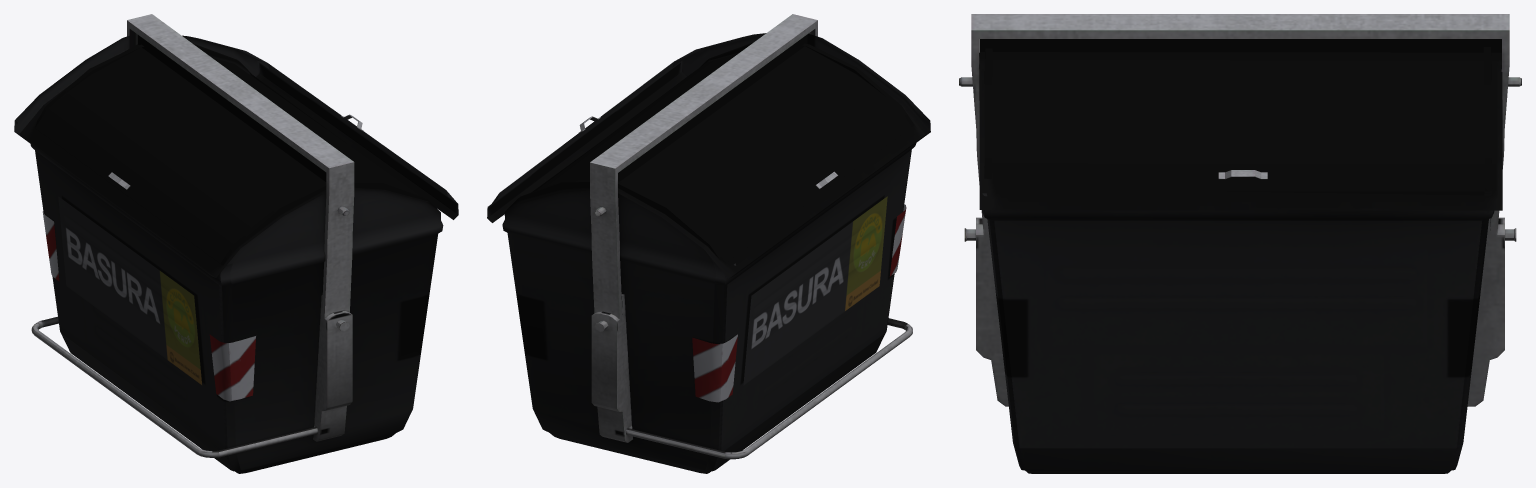
Rendered from tachoBasura.glb.
3 renders of one model, left to right at view 1: azimuth 30°, elevation 25°; view 2: azimuth 150°, elevation 25°; view 3: azimuth 270°, elevation 25°, orthographic. The views are drawn at different scales.
Visible parts, largest first — view 1: tachoBasura; view 2: tachoBasura; view 3: tachoBasura.
Boxes of the visible parts, bbox=[...] form: tachoBasura: bbox=[14, 14, 458, 473]; tachoBasura: bbox=[487, 14, 930, 473]; tachoBasura: bbox=[959, 14, 1521, 473].
Bounding box in the file's own units: 2.3 × 2.7 × 3.4.
Materials: 1 (1 with a texture image).
